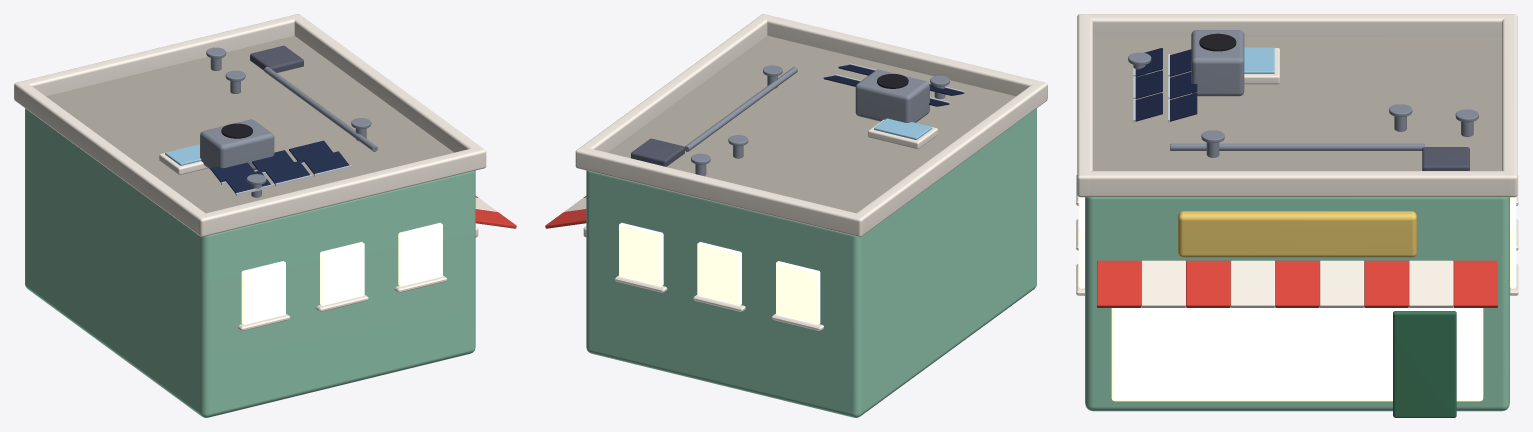
The model's file is shop.glb.
3 views of the same model, side by side, from view 1: azimuth 30°, elevation 25°; view 2: azimuth 150°, elevation 25°; view 3: azimuth 270°, elevation 25° (orthographic). The views are drawn at different scales.
Parts seen in each view (by area): view 1: shop; view 2: shop; view 3: shop.
Part boxes in pixels (x1,y1,x2,y2): shop: (14, 14, 516, 417); shop: (545, 14, 1047, 417); shop: (1076, 14, 1518, 417).
Size of the model in its own units: 8.27 by 5.55 by 8.34.
1 material, 1 textured.
